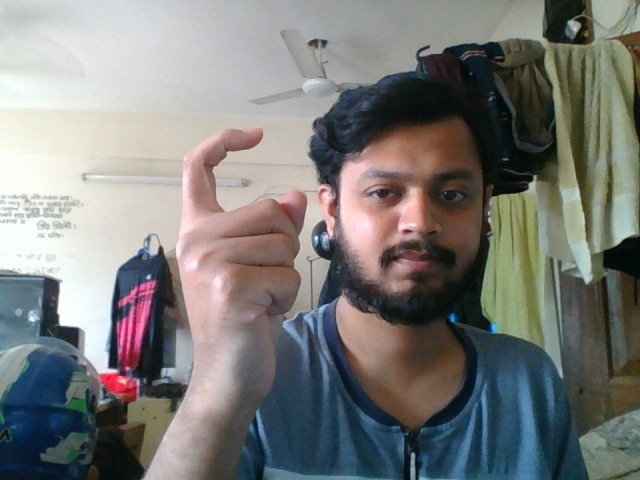e: (168, 118, 314, 461)
